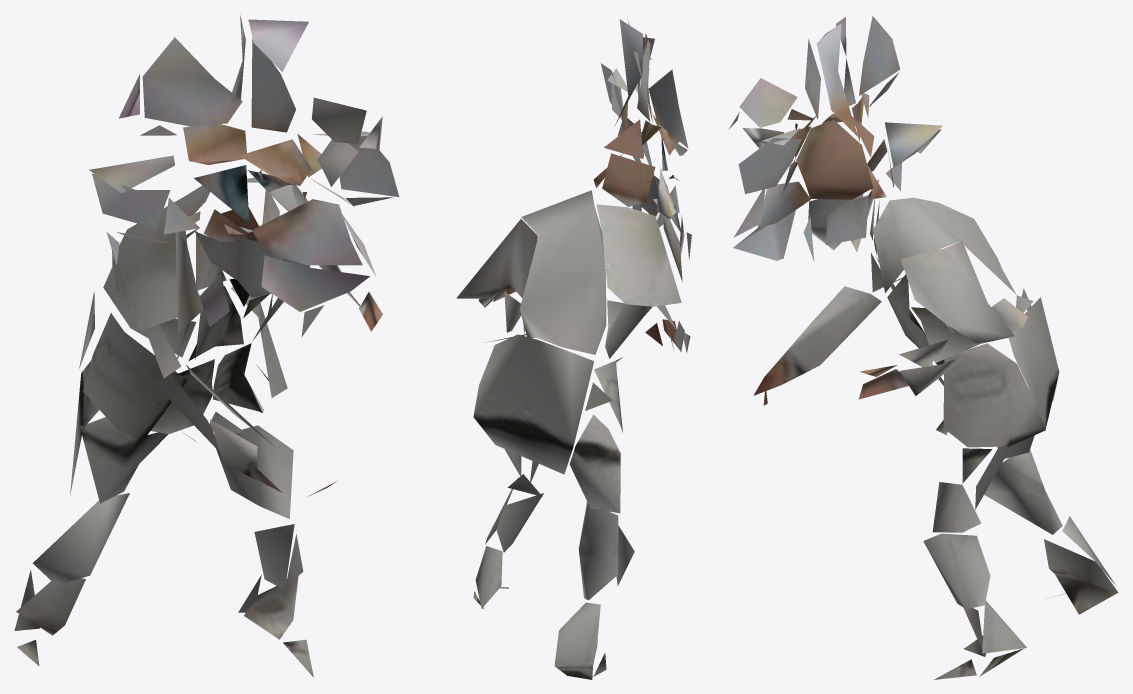
Rendered from crowd_hustler_lite.glb.
3 renders of one model, left to right at view 1: azimuth 30°, elevation 25°; view 2: azimuth 150°, elevation 25°; view 3: azimuth 270°, elevation 25°, orthographic. The views are drawn at different scales.
Parts seen in each view (by area): view 1: tripo_node_9c831a25-49ee-4494-91a2-c6b040481e57; view 2: tripo_node_9c831a25-49ee-4494-91a2-c6b040481e57; view 3: tripo_node_9c831a25-49ee-4494-91a2-c6b040481e57.
Boxes of the visible parts, x1,y1,x2,y2 form: tripo_node_9c831a25-49ee-4494-91a2-c6b040481e57: (14, 14, 399, 677); tripo_node_9c831a25-49ee-4494-91a2-c6b040481e57: (456, 17, 691, 679); tripo_node_9c831a25-49ee-4494-91a2-c6b040481e57: (729, 16, 1118, 679).
Size of the model in its own units: 0.7103 by 1.83 by 1.05.
Materials: 1 (1 with a texture image).
